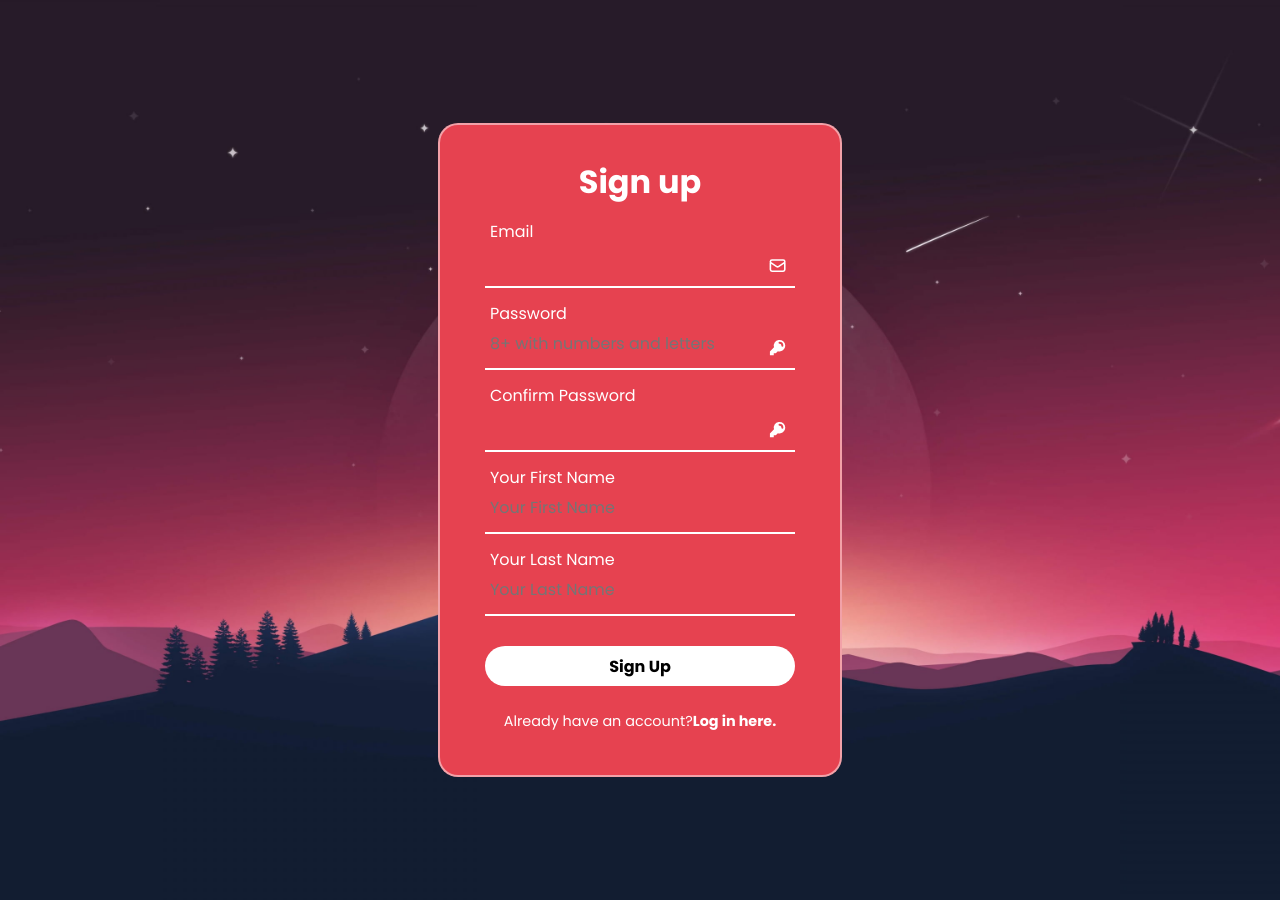
Scenario: Test Signup component › displays an error message when any input is missing
The width and height of the screenshot is (1280, 900).
Click the button "Sign Up" at (640, 666), box top-left (485, 646), bottom-right (795, 686)
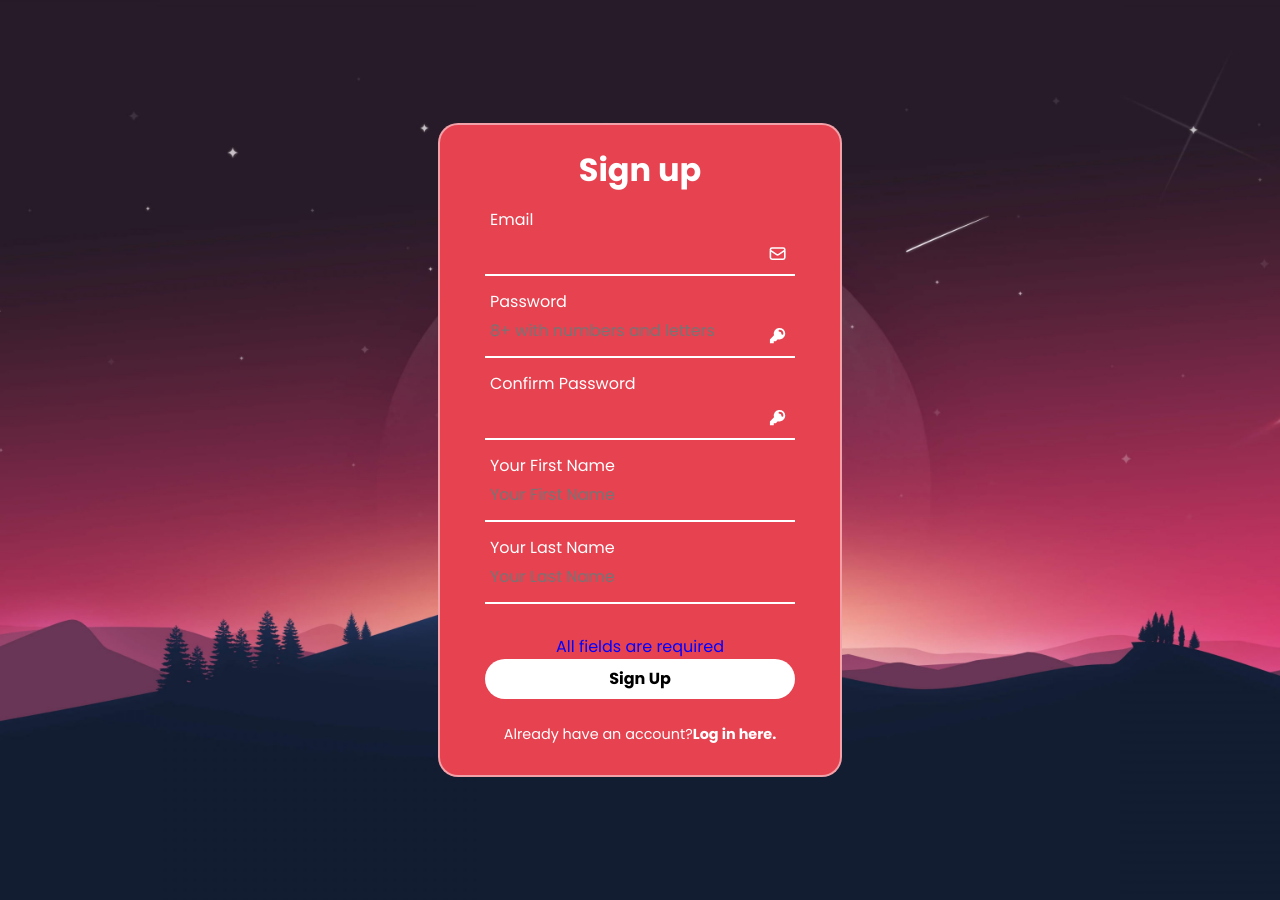
Expected: the text "All fields are required" is shown, top-left (556, 634), bottom-right (724, 658)
